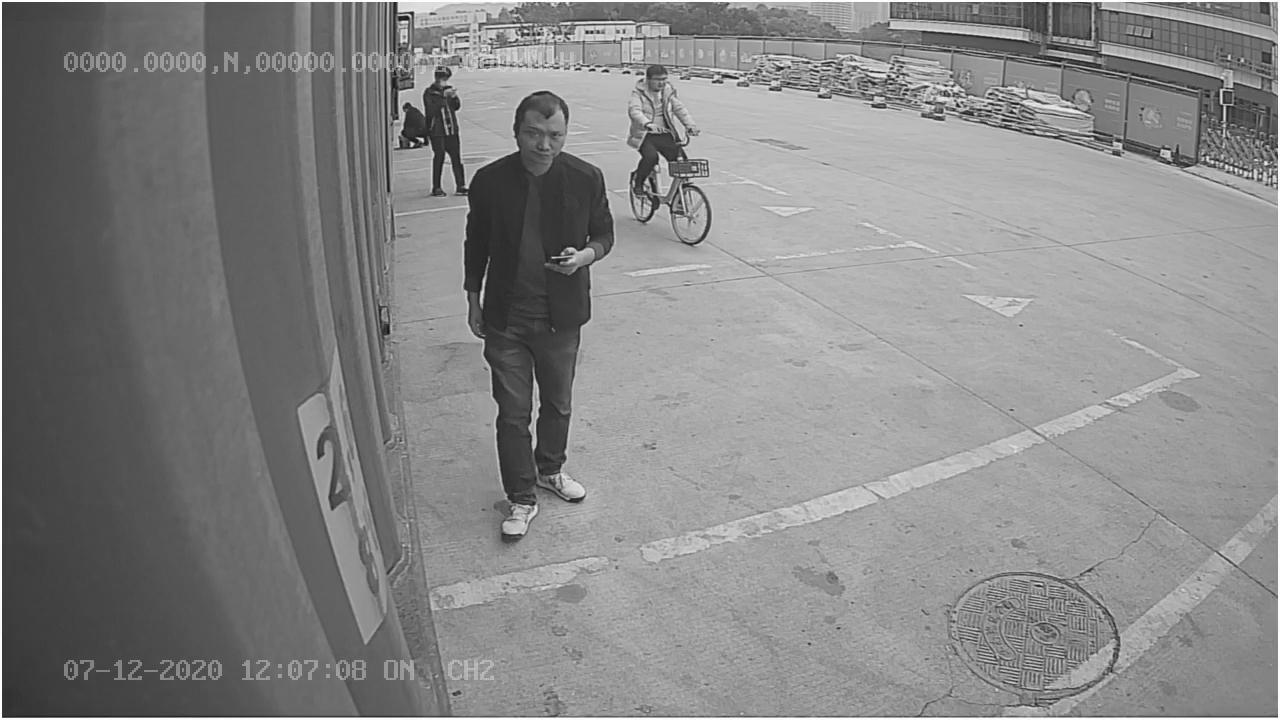person: (462, 90, 618, 542)
